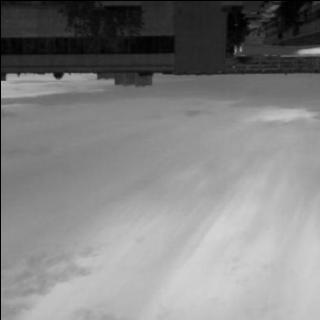Cirrus: (0, 83, 320, 320)
